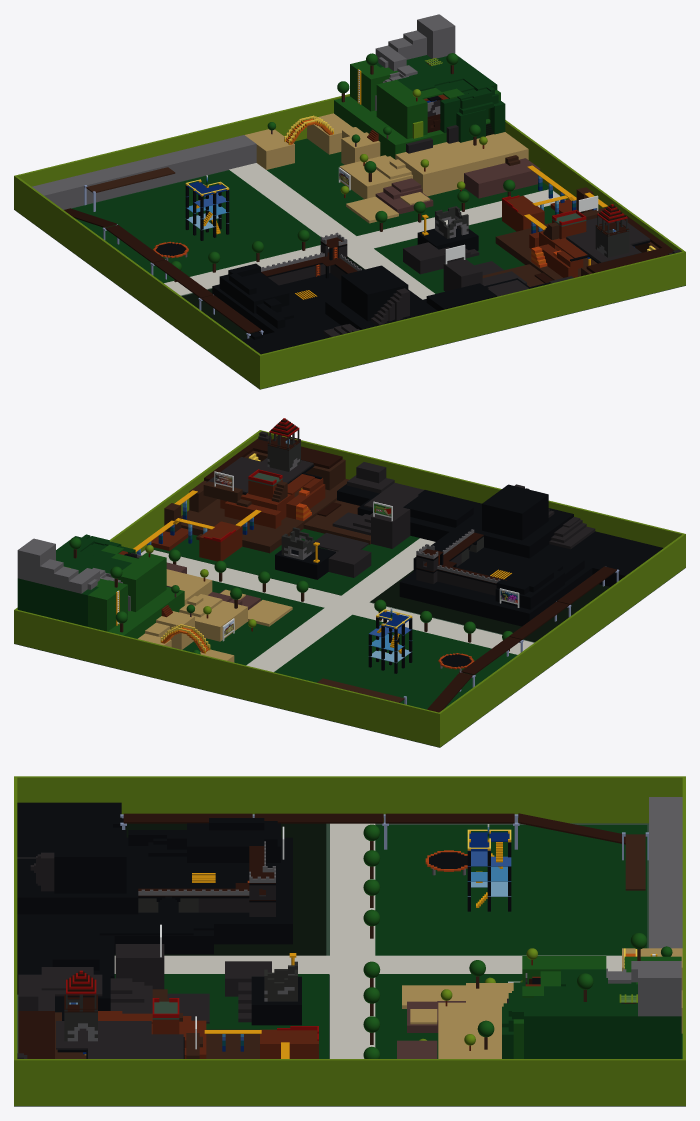
Rendered from city.obj.
The picture shows the model from 3 angles, top to bottom: view 1: azimuth 30°, elevation 25°; view 2: azimuth 150°, elevation 25°; view 3: azimuth 270°, elevation 25°; orthographic projection. The views are drawn at different scales.
Parts seen in each view (by area): view 1: FrontWall1, TowerPlatform1, LeftWall1, BackLedge1, BrickyardBase1, BackWall1, SmoothBlockModel1508, FrontBackPath1, HousePlatform1, RightWall1, SmoothBlockModel535, SmoothBlockModel539 (+33 smaller); view 2: BackWall1, TowerPlatform1, LeftWall1, FrontWall1, FrontBackPath1, HousePlatform1, BrickyardBase1, SmoothBlockModel549, SmoothBlockModel535, CastlePlatform1, SmoothBlockModel510, SmoothBlockModel539 (+40 smaller); view 3: RightWall1, TowerPlatform1, LeftWall1, SmoothBlockModel1493, CastlePlatform1, FrontBackPath1, LeftPath1, BackLedge1, SmoothBlockModel535, SmoothBlockModel549, HousePlatform1, SmoothBlockModel536 (+40 smaller).
Part boxes in pixels (left/top/right/bottom): FrontWall1: left=258, top=251, right=685, bottom=389; TowerPlatform1: left=72, top=170, right=320, bottom=283; LeftWall1: left=15, top=176, right=260, bottom=387; BackLedge1: left=32, top=135, right=256, bottom=209; BrickyardBase1: left=267, top=138, right=548, bottom=235; BackWall1: left=14, top=94, right=349, bottom=209; SmoothBlockModel1508: left=395, top=132, right=528, bottom=196; FrontBackPath1: left=229, top=163, right=434, bottom=299; HousePlatform1: left=374, top=205, right=554, bottom=293; RightWall1: left=505, top=120, right=683, bottom=251; SmoothBlockModel535: left=341, top=265, right=408, bottom=321; SmoothBlockModel539: left=241, top=294, right=339, bottom=346; BackWall1: left=14, top=609, right=441, bottom=747; TowerPlatform1: left=274, top=614, right=517, bottom=709; LeftWall1: left=439, top=534, right=684, bottom=745; FrontWall1: left=259, top=430, right=685, bottom=567; FrontBackPath1: left=246, top=538, right=435, bottom=672; HousePlatform1: left=153, top=528, right=419, bottom=595; BrickyardBase1: left=182, top=580, right=324, bottom=665; SmoothBlockModel549: left=399, top=569, right=558, bottom=626; SmoothBlockModel535: left=482, top=484, right=548, bottom=540; CastlePlatform1: left=370, top=570, right=610, bottom=641; SmoothBlockModel510: left=181, top=479, right=349, bottom=553; SmoothBlockModel539: left=504, top=531, right=629, bottom=599; RightWall1: left=17, top=1059, right=682, bottom=1105; TowerPlatform1: left=375, top=825, right=647, bottom=955; LeftWall1: left=17, top=776, right=682, bottom=823; SmoothBlockModel1493: left=524, top=1003, right=681, bottom=1058; CastlePlatform1: left=114, top=823, right=326, bottom=955; FrontBackPath1: left=114, top=955, right=621, bottom=974; LeftPath1: left=330, top=823, right=375, bottom=955; BackLedge1: left=649, top=797, right=682, bottom=948; SmoothBlockModel535: left=54, top=830, right=126, bottom=893; SmoothBlockModel549: left=214, top=837, right=292, bottom=944; HousePlatform1: left=114, top=974, right=328, bottom=1058; SmoothBlockModel536: left=17, top=858, right=138, bottom=914.
Bounding box in the file's own units: 400 × 83.6 × 400.
Materials: 33 (5 with a texture image).
